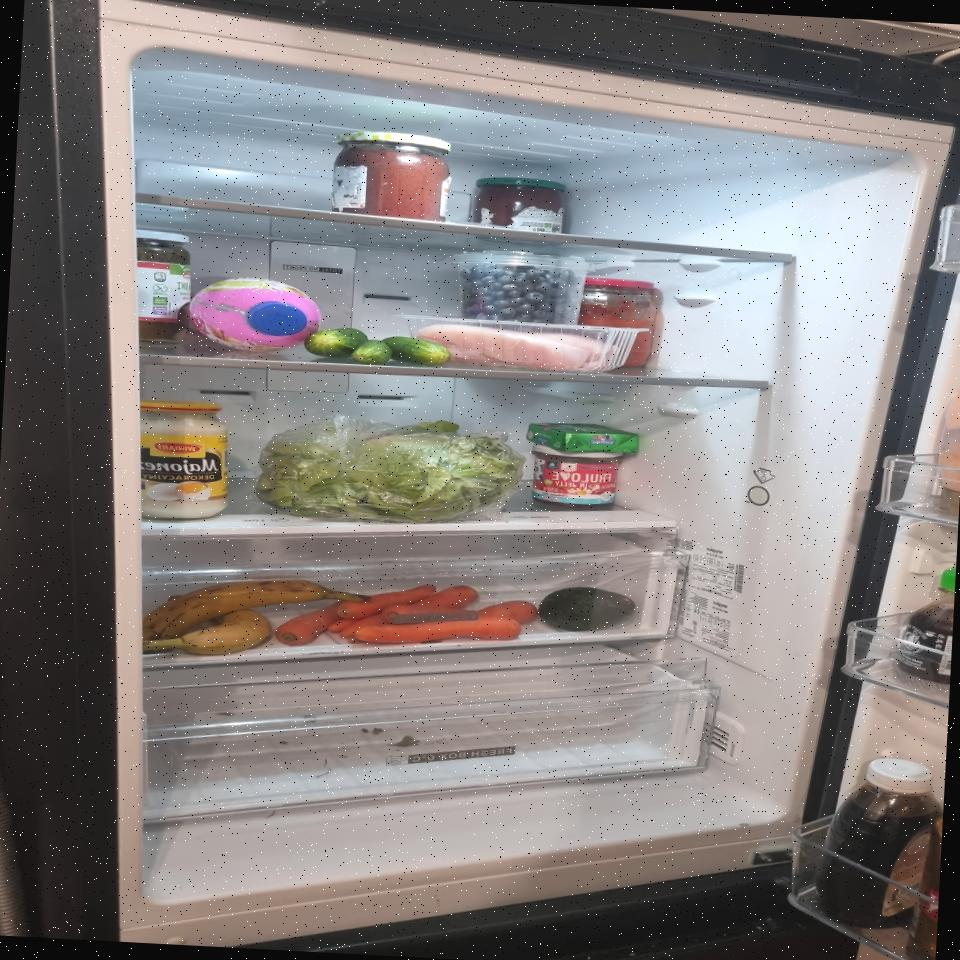Aguacate: (536, 585, 636, 635)
Carne pollo: (386, 314, 648, 376)
Lechuga/Endivia: (253, 409, 530, 533)
Mantequilla: (524, 420, 640, 456)
Pepino: (303, 325, 451, 369)
Plátano: (142, 569, 373, 664)
Zanahoria: (273, 575, 536, 659)
blueberries: (446, 248, 597, 326)
mayonnaise: (133, 396, 232, 524)
